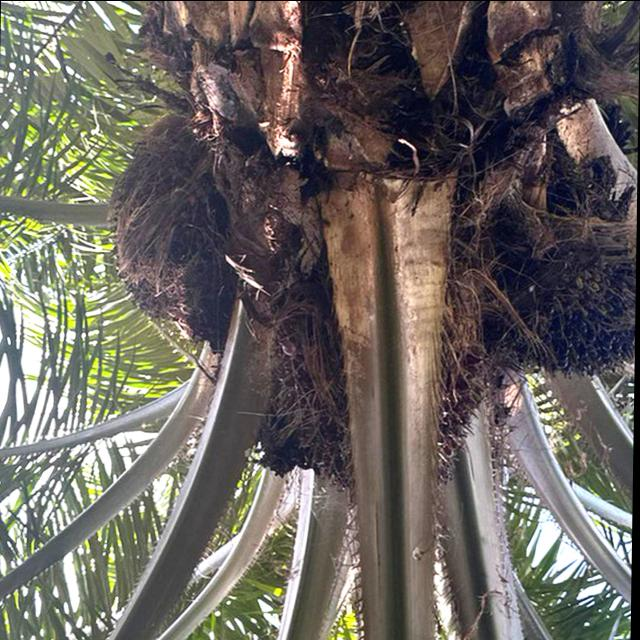ripe: (254, 246, 499, 498)
